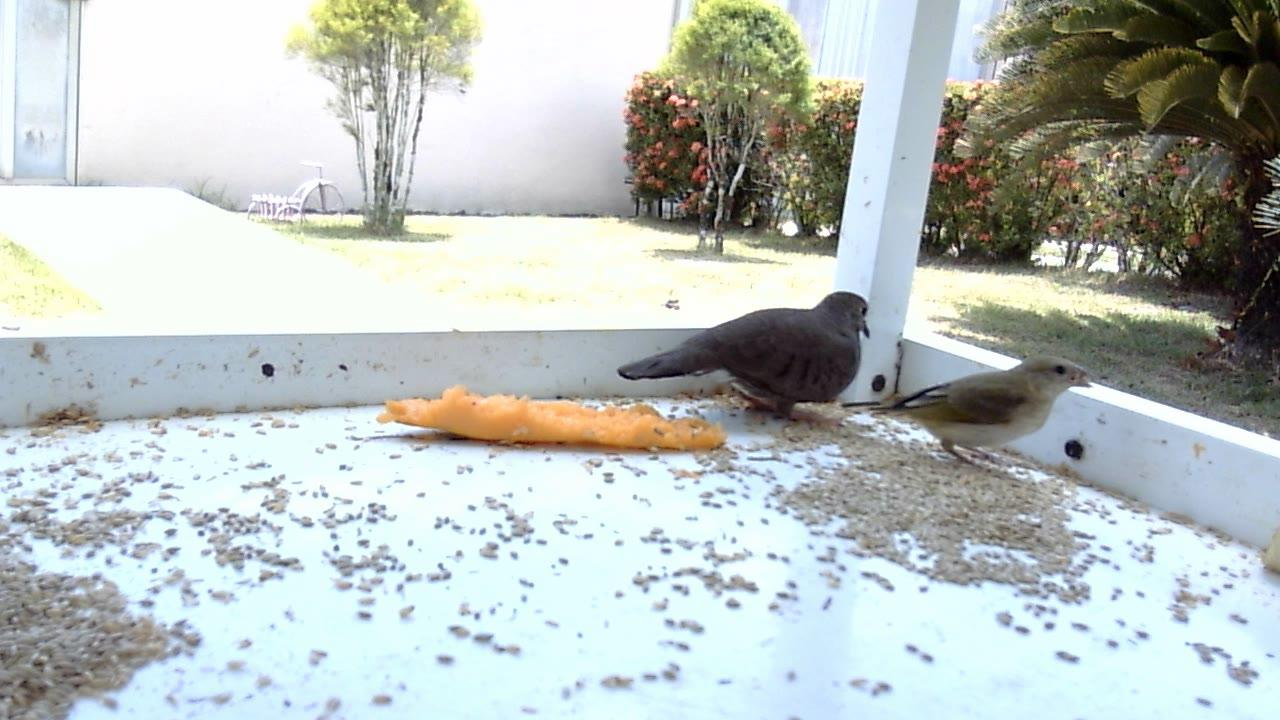canario_do_amazonas: (838, 353, 1100, 474)
rolinha: (616, 290, 876, 433)
